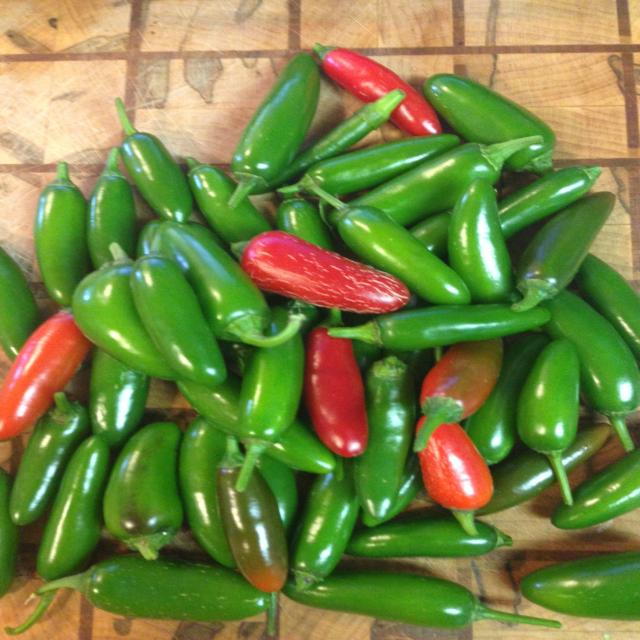aji: (10, 72, 639, 640)
